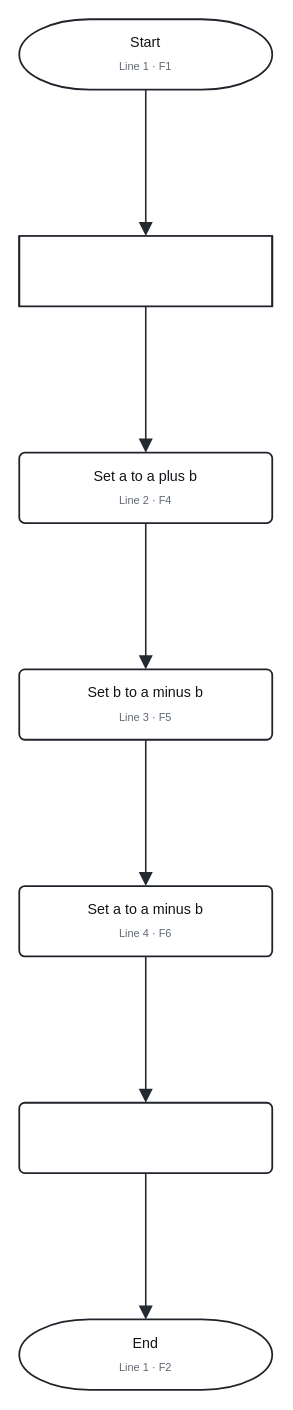
The diagram is 293 pixels wide and 1410 high, and some of its shapes have lost their labels. The shapes that lost their labels are listed below. From the top down, each one's box as (x1, y1, x2, y2) in pixels, then its label:
(18, 235, 273, 307): Run function swap with a, b Line 1 · F3
(18, 1101, 273, 1173): Return (a, b) Line 5 · F7
